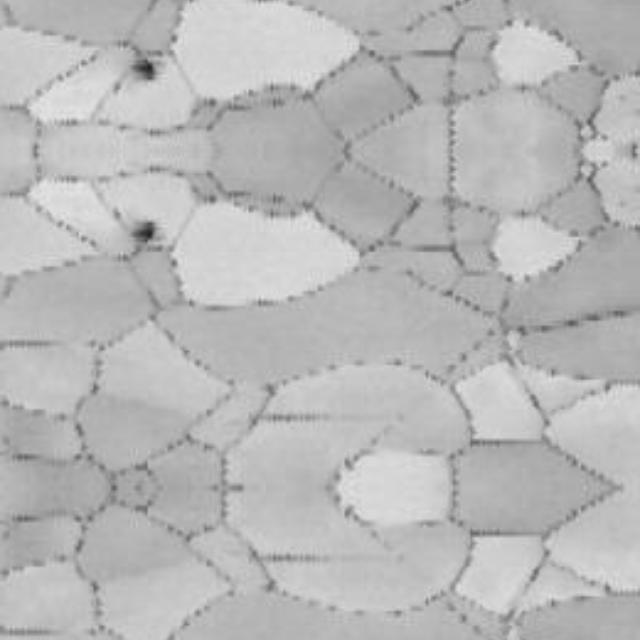good_void: (131, 219, 158, 249), (131, 55, 158, 84)
